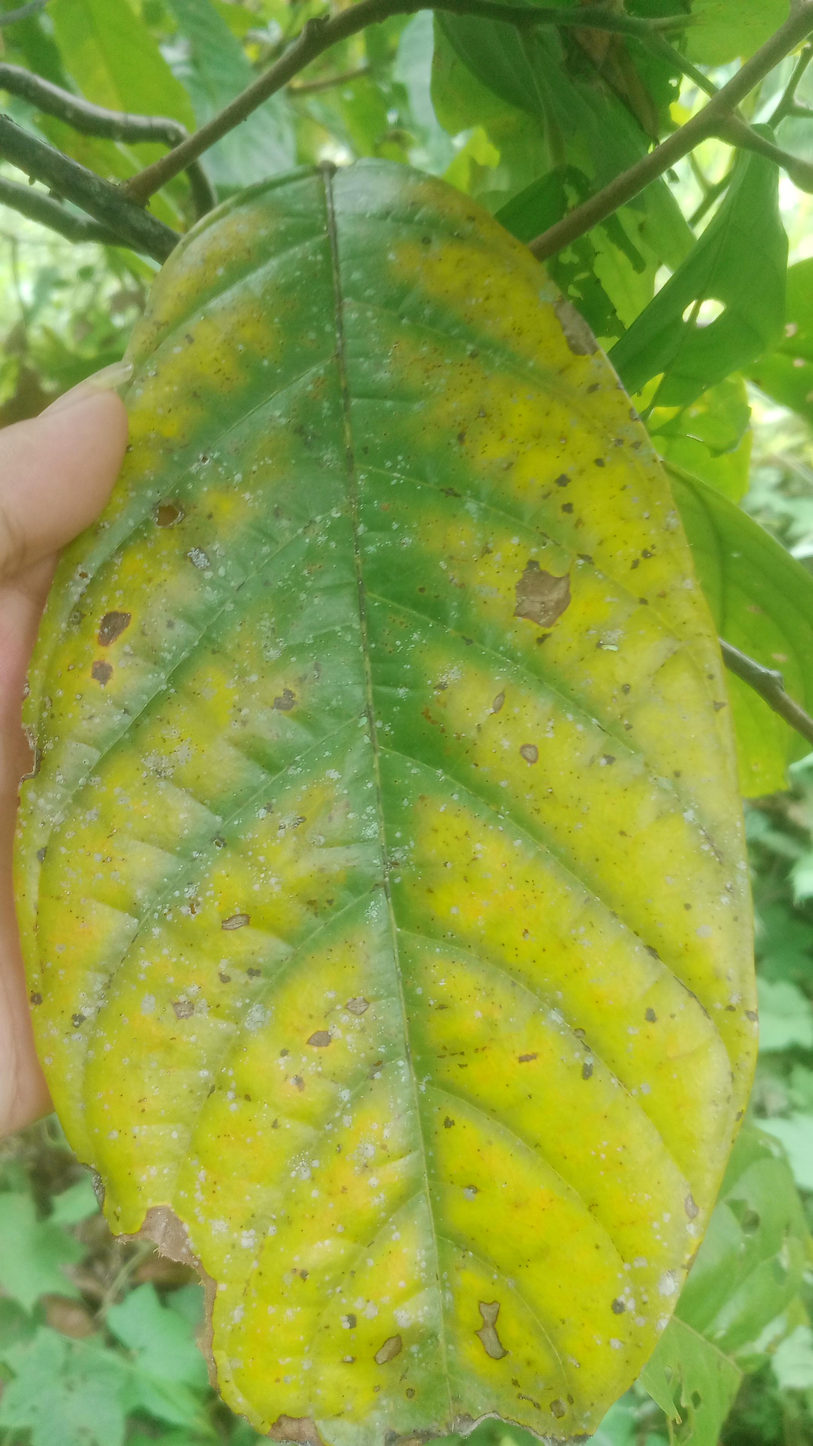deficiencia_potasio: (11, 147, 772, 1446)
